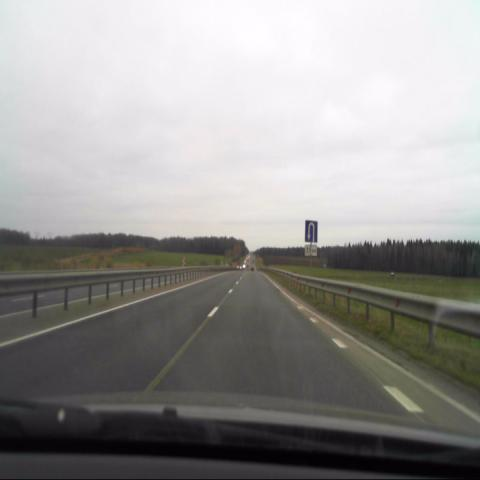6_3_1: (304, 221, 318, 242)
